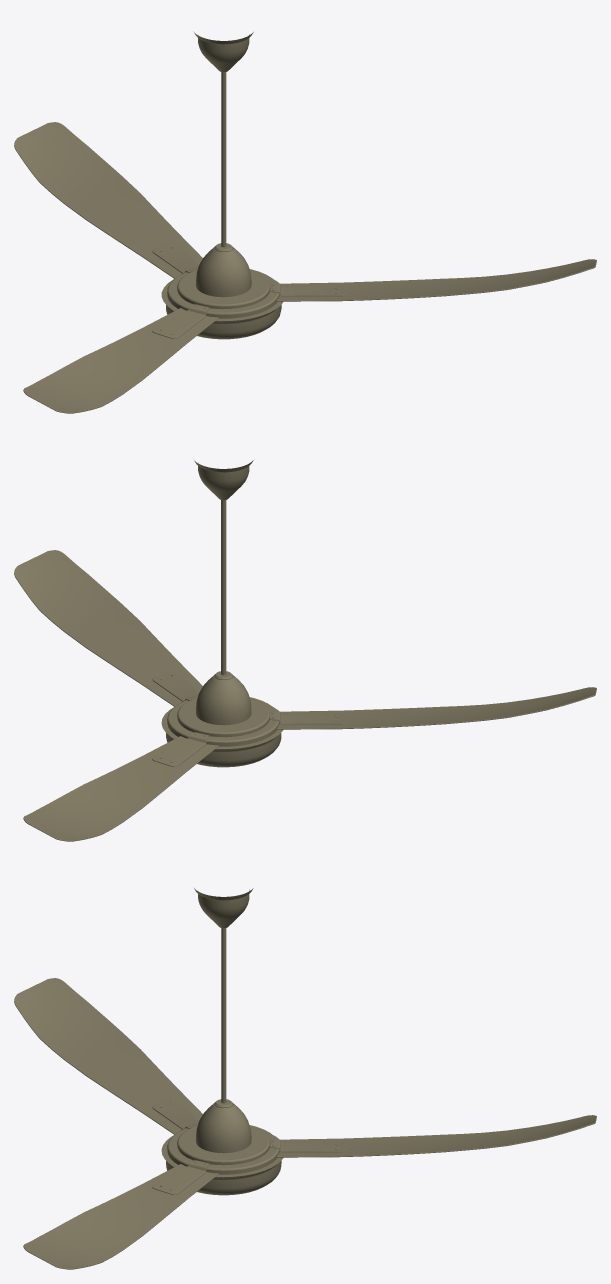
Rendered from fan.glb.
3 renders of one model, top to bottom at view 1: azimuth 30°, elevation 25°; view 2: azimuth 150°, elevation 25°; view 3: azimuth 270°, elevation 25°, orthographic.
Parts seen in each view (by area): view 1: Cloner; view 2: Cloner; view 3: Cloner.
Boxes of the visible parts, bbox=[...] form: Cloner: bbox=[14, 31, 596, 413]; Cloner: bbox=[14, 460, 596, 841]; Cloner: bbox=[14, 888, 596, 1269].
Size of the model in its own units: 257 by 126 by 226.
